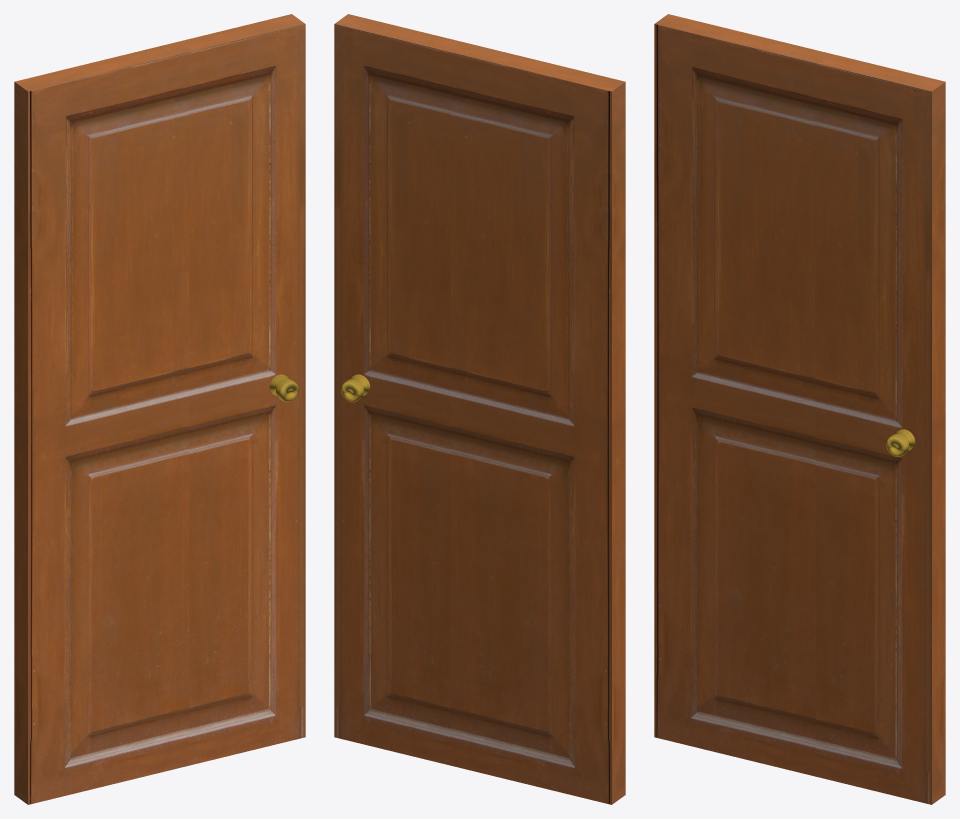
Rendered from RoomDoor01.fbx.
The picture shows the model from 3 angles, left to right: view 1: azimuth 30°, elevation 25°; view 2: azimuth 150°, elevation 25°; view 3: azimuth 330°, elevation 25°; orthographic projection.
Parts seen in each view (by area): view 1: Cube; view 2: Cube; view 3: Cube.
Boxes of the visible parts, <box> form: Cube: <box>14,14,305,804</box>; Cube: <box>334,14,625,804</box>; Cube: <box>654,14,945,804</box>.
Size of the model in its own units: 91.26 by 224 by 20.59.
